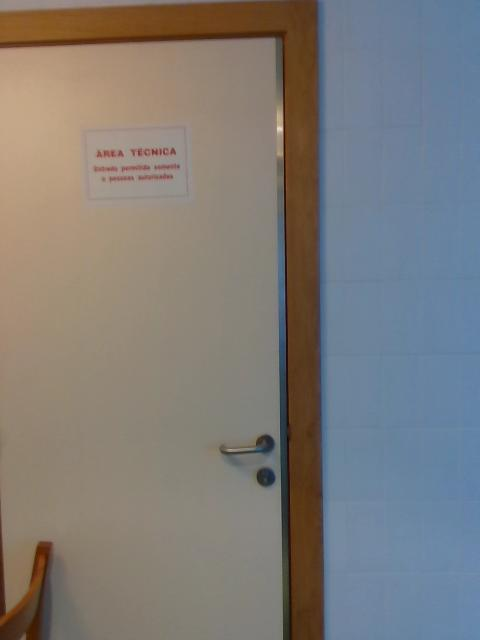door: (1, 32, 286, 639)
